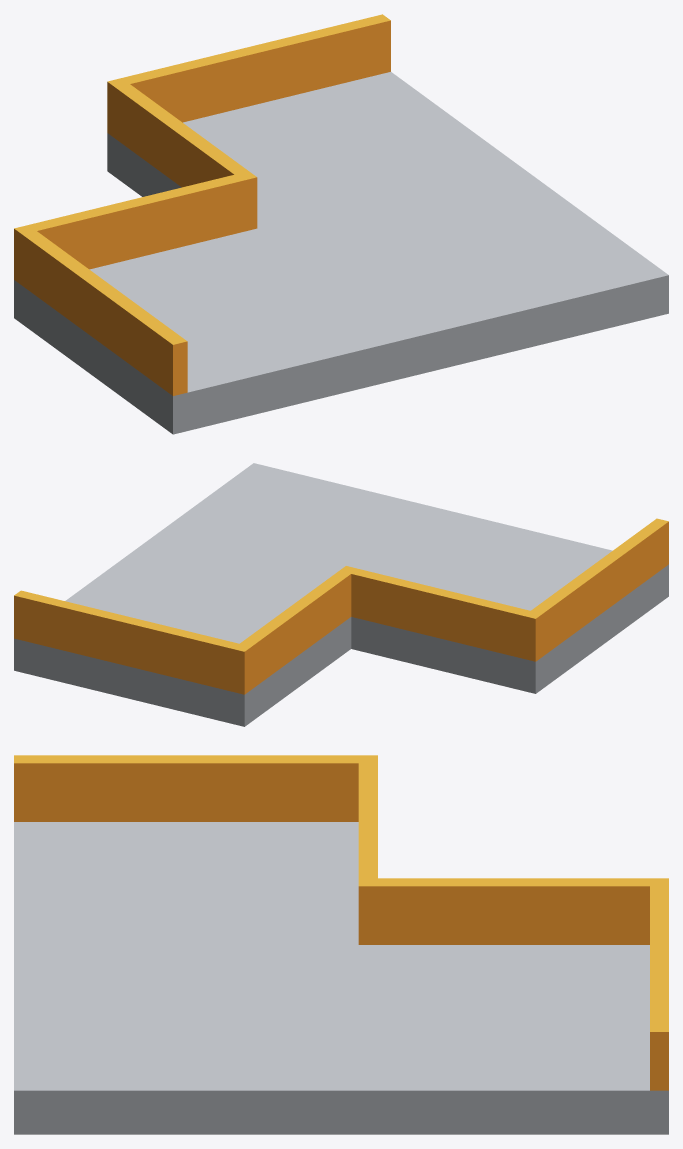
Rendered from battle_stage_6_platform.fbx.
3 renders of one model, top to bottom at view 1: azimuth 30°, elevation 25°; view 2: azimuth 150°, elevation 25°; view 3: azimuth 270°, elevation 25°, orthographic. The views are drawn at different scales.
Visible parts, largest first — view 1: Cube.042, Cube.043; view 2: Cube.042, Cube.043; view 3: Cube.042, Cube.043.
Boxes of the visible parts, x1,y1,x2,y2 form: Cube.042: (14,72,668,434); Cube.043: (14,14,390,395); Cube.042: (14,463,668,726); Cube.043: (14,518,668,694); Cube.042: (14,822,668,1134); Cube.043: (14,755,668,1090).
Bounding box in the file's own units: 4050 × 700 × 4050.
